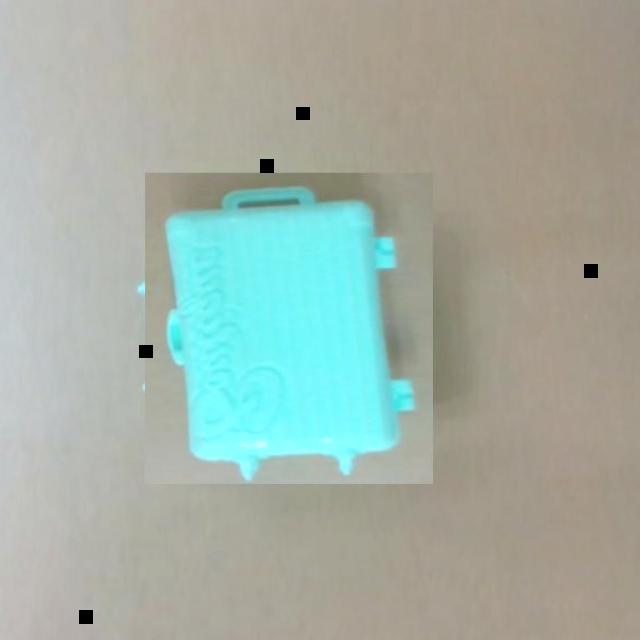luggage: (138, 178, 440, 480)
